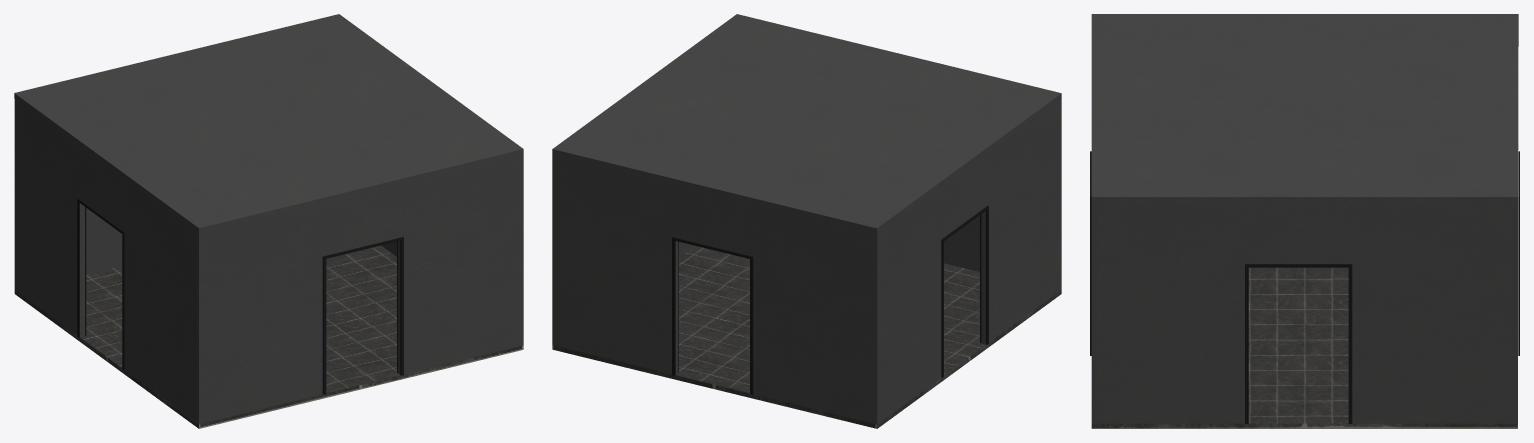
The model's file is room 4 doors super 2 final.fbx.
3 renders of one model, left to right at view 1: azimuth 30°, elevation 25°; view 2: azimuth 150°, elevation 25°; view 3: azimuth 270°, elevation 25°, orthographic. The views are drawn at different scales.
Visible parts, largest first — view 1: Roof, Wall 2, Wall 4, Floor, Wall 3, Door Frame 4, Door Frame 1; view 2: Roof, Wall 3, Wall 4, Floor, Wall 2, Door Frame 3, Door Frame 1; view 3: Roof, Wall 1, Floor, Door Frame 2, Wall 2, Wall 3, Door Frame 3, Door Frame 4.
Part boxes in pixels (bbox=[...]): Roof: bbox=[14, 14, 523, 233]; Wall 2: bbox=[196, 154, 523, 424]; Wall 4: bbox=[14, 99, 196, 421]; Floor: bbox=[14, 245, 523, 428]; Wall 3: bbox=[86, 208, 122, 274]; Door Frame 4: bbox=[322, 237, 403, 394]; Door Frame 1: bbox=[77, 198, 124, 370]; Roof: bbox=[552, 14, 1061, 233]; Wall 3: bbox=[552, 154, 876, 424]; Wall 4: bbox=[877, 101, 1058, 424]; Floor: bbox=[552, 245, 1061, 428]; Wall 2: bbox=[944, 99, 1061, 290]; Door Frame 3: bbox=[672, 237, 753, 394]; Door Frame 1: bbox=[941, 205, 988, 377]; Roof: bbox=[1091, 14, 1518, 203]; Wall 1: bbox=[1098, 203, 1511, 423]; Floor: bbox=[1091, 267, 1517, 428]; Door Frame 2: bbox=[1245, 264, 1352, 423]; Wall 2: bbox=[1091, 203, 1097, 423]; Wall 3: bbox=[1511, 203, 1517, 423]; Door Frame 3: bbox=[1518, 151, 1519, 355]; Door Frame 4: bbox=[1090, 151, 1091, 355].
Bounding box in the file's own units: 463 × 456 × 272.
